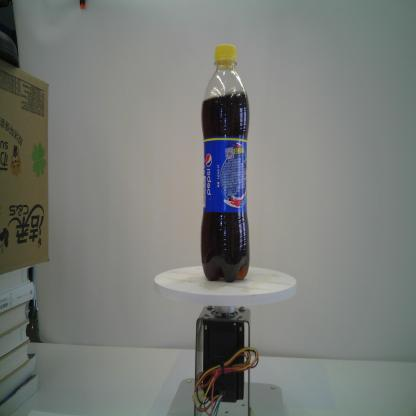Drink: (198, 40, 251, 284)
